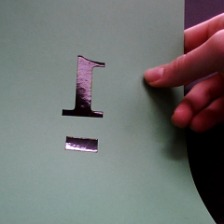green1: (58, 48, 112, 162)
